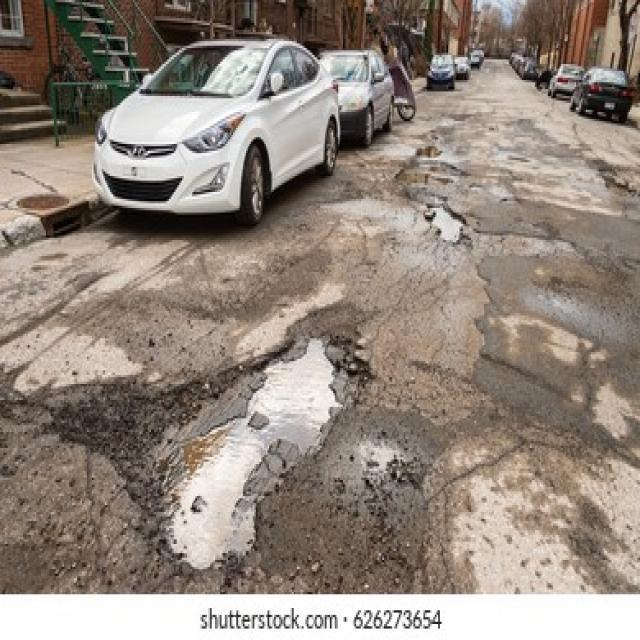Pothole: (148, 331, 348, 574), (425, 202, 468, 246), (394, 167, 456, 187)
